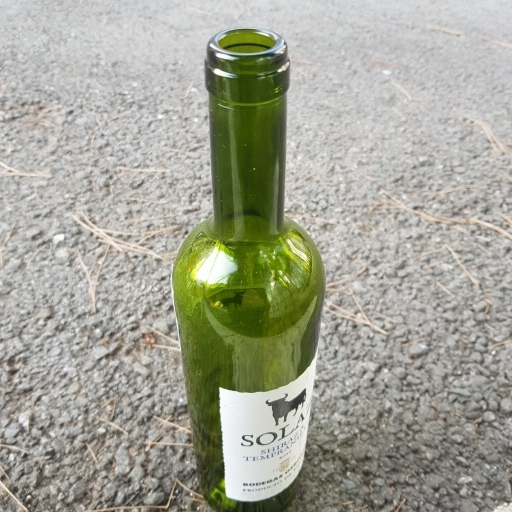Glass_2: (168, 23, 325, 512)
